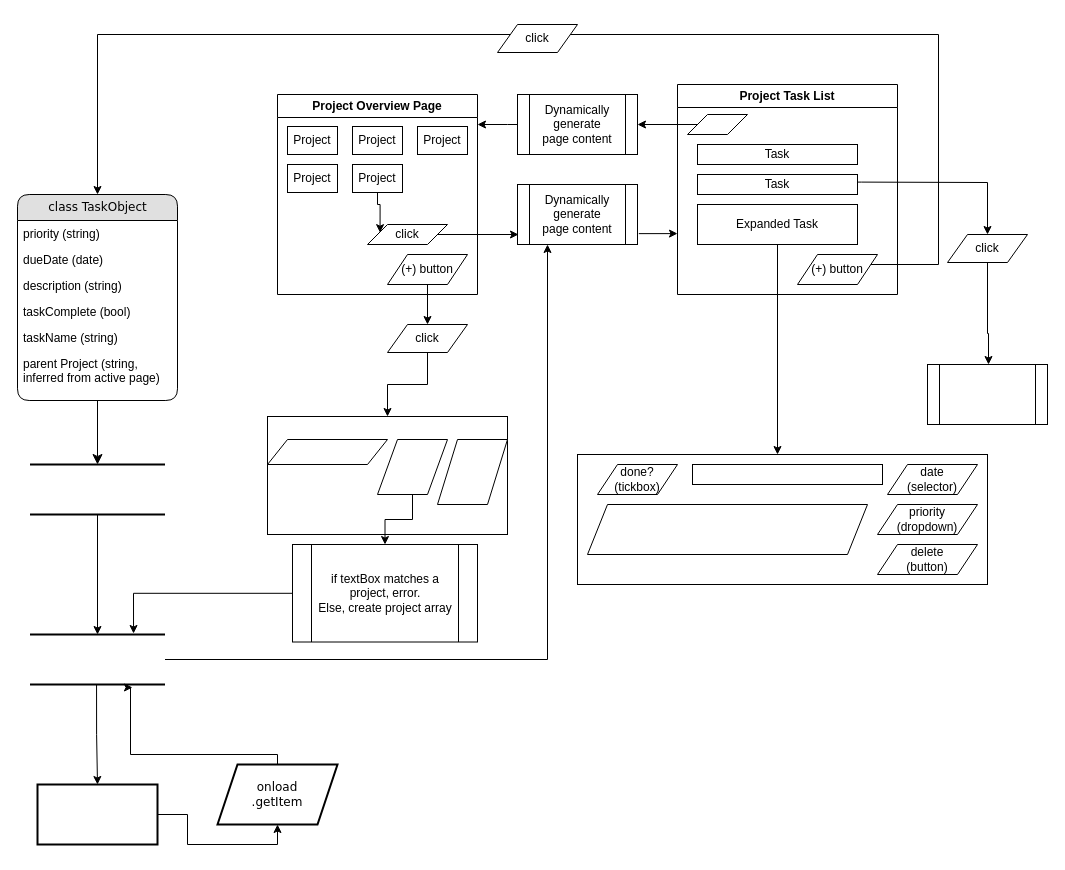
The diagram is 1065 pixels wide and 870 high, and some of its shapes have lost their labels. Each missing label, with the centre of its shape:
Array of TaskObjects (per project): [97,659]
back: [717,124]
cancel (close modal): [472,471]
expand task: [987,394]
localStorage .setItem JSON.stringify: [97,814]
notes: [727,529]
submit: [412,466]
Task Name: [787,474]
TaskObject: [97,489]
textBox: [327,451]
